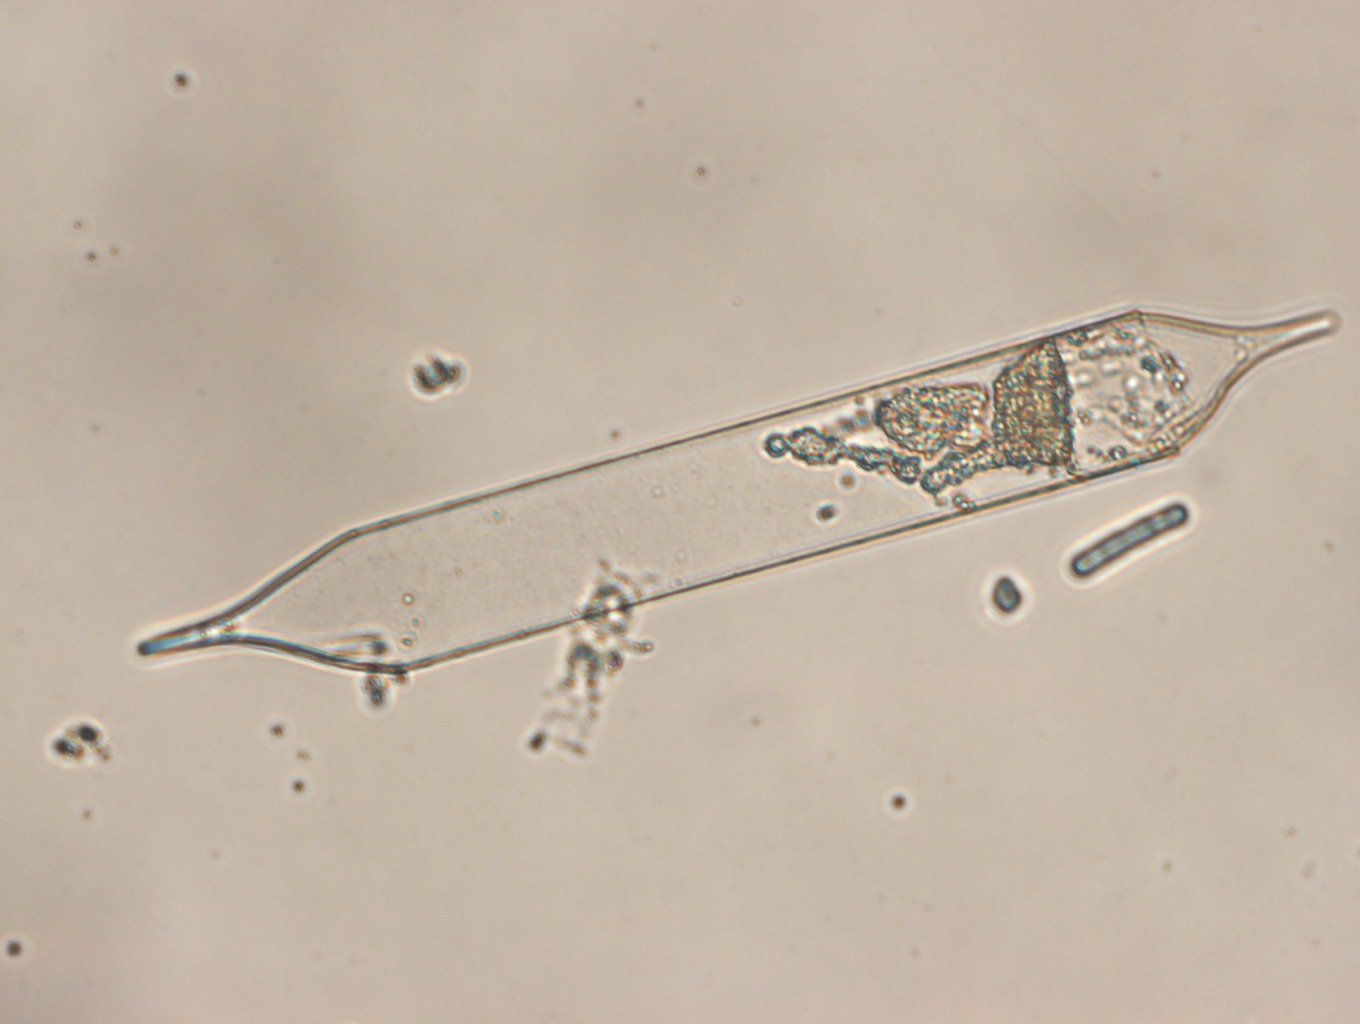chaetoceros: (529, 558, 661, 760)
rhizosolenia: (135, 305, 1346, 674)
